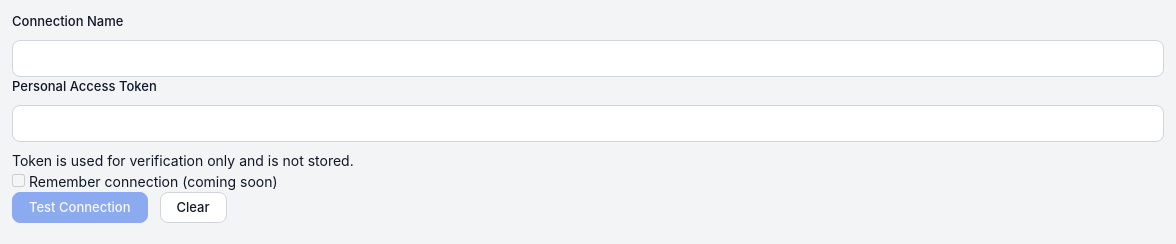
Test: ConnectionForm › clear button resets form fields
The width and height of the screenshot is (1176, 244).
Type "Test Connection" into the field labelled "Connection Name" at {"x": 588, "y": 58}, box [12,40,1164,77]
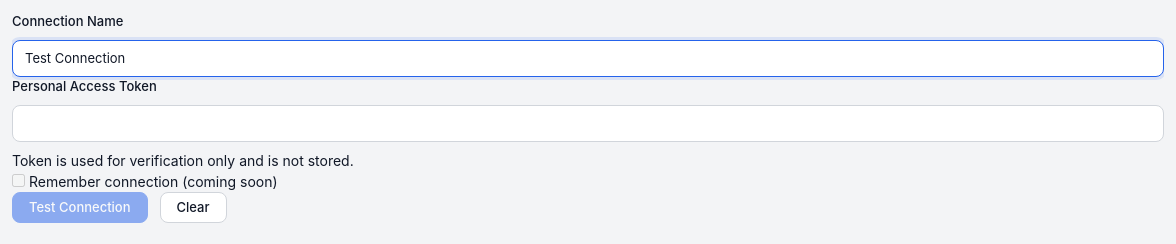
Type "example_valid_token_abcdefgh12345" into the password field labelled "Personal Access Token" at {"x": 588, "y": 123}, box [12,104,1164,142]
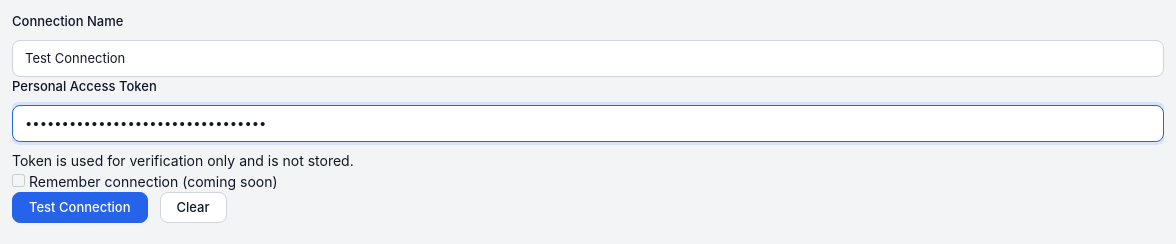
Click the button with aria-label "Clear connection form" at {"x": 193, "y": 208}, box [160,192,226,223]
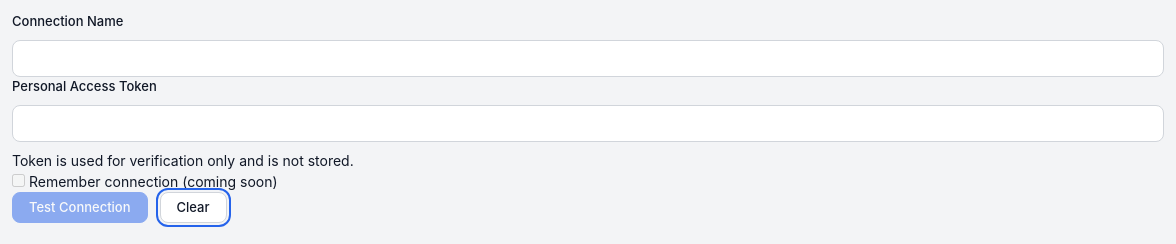
Result: the field labelled "Connection Name" is empty at [12,40,1164,77]
Result: the password field labelled "Personal Access Token" is empty at [12,104,1164,142]
